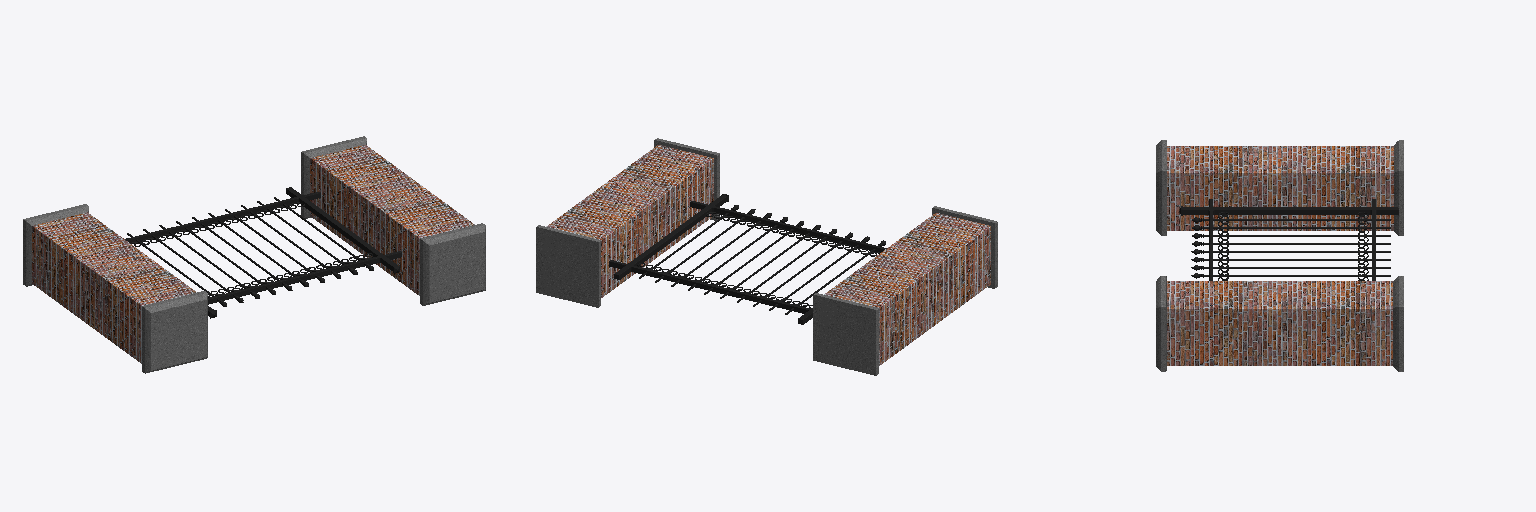
3 renders of one model, left to right at view 1: azimuth 30°, elevation 25°; view 2: azimuth 150°, elevation 25°; view 3: azimuth 270°, elevation 25°, orthographic.
Visible parts, largest first — view 1: Wrought_Iron_fence_with_brick_5, Wrought_Iron_fence_with_brick_1, Wrought_Iron_fence_with_brick_8, Wrought_Iron_fence_with_brick_4, Wrought_Iron_fence_with_brick_6, Wrought_Iron_fence_with_brick_11, Wrought_Iron_fence_with_brick_3, Wrought_Iron_fence_with_brick_9, Wrought_Iron_fence_with_brick_2; view 2: Wrought_Iron_fence_with_brick_5, Wrought_Iron_fence_with_brick_1, Wrought_Iron_fence_with_brick_3, Wrought_Iron_fence_with_brick_2, Wrought_Iron_fence_with_brick_6, Wrought_Iron_fence_with_brick_11, Wrought_Iron_fence_with_brick_9, Wrought_Iron_fence_with_brick_8, Wrought_Iron_fence_with_brick_4; view 3: Wrought_Iron_fence_with_brick_1, Wrought_Iron_fence_with_brick_5, Wrought_Iron_fence_with_brick_11, Wrought_Iron_fence_with_brick_6, Wrought_Iron_fence_with_brick_4, Wrought_Iron_fence_with_brick_8, Wrought_Iron_fence_with_brick_2, Wrought_Iron_fence_with_brick_3, Wrought_Iron_fence_with_brick_9.
Part boxes in pixels (bbox=[...]): Wrought_Iron_fence_with_brick_5: bbox=[32, 212, 196, 363]; Wrought_Iron_fence_with_brick_1: bbox=[310, 145, 474, 295]; Wrought_Iron_fence_with_brick_8: bbox=[142, 291, 207, 373]; Wrought_Iron_fence_with_brick_4: bbox=[420, 223, 485, 305]; Wrought_Iron_fence_with_brick_6: bbox=[125, 187, 401, 316]; Wrought_Iron_fence_with_brick_11: bbox=[127, 197, 365, 300]; Wrought_Iron_fence_with_brick_3: bbox=[23, 204, 88, 286]; Wrought_Iron_fence_with_brick_9: bbox=[130, 202, 372, 297]; Wrought_Iron_fence_with_brick_2: bbox=[301, 136, 366, 218]; Wrought_Iron_fence_with_brick_5: bbox=[824, 213, 990, 365]; Wrought_Iron_fence_with_brick_1: bbox=[546, 145, 713, 297]; Wrought_Iron_fence_with_brick_3: bbox=[813, 293, 878, 375]; Wrought_Iron_fence_with_brick_2: bbox=[536, 225, 600, 307]; Wrought_Iron_fence_with_brick_6: bbox=[609, 195, 886, 324]; Wrought_Iron_fence_with_brick_11: bbox=[639, 213, 879, 314]; Wrought_Iron_fence_with_brick_9: bbox=[637, 212, 879, 308]; Wrought_Iron_fence_with_brick_8: bbox=[932, 206, 997, 288]; Wrought_Iron_fence_with_brick_4: bbox=[654, 138, 719, 220]; Wrought_Iron_fence_with_brick_1: bbox=[1167, 281, 1392, 365]; Wrought_Iron_fence_with_brick_5: bbox=[1167, 146, 1393, 230]; Wrought_Iron_fence_with_brick_11: bbox=[1204, 219, 1390, 276]; Wrought_Iron_fence_with_brick_6: bbox=[1183, 199, 1398, 280]; Wrought_Iron_fence_with_brick_4: bbox=[1156, 276, 1166, 371]; Wrought_Iron_fence_with_brick_8: bbox=[1156, 140, 1166, 235]; Wrought_Iron_fence_with_brick_2: bbox=[1393, 276, 1403, 371]; Wrought_Iron_fence_with_brick_3: bbox=[1394, 140, 1403, 235]; Wrought_Iron_fence_with_brick_9: bbox=[1218, 212, 1368, 280].
Size of the model in its own units: 339 by 62.64 by 214.
3 materials, 2 textured.